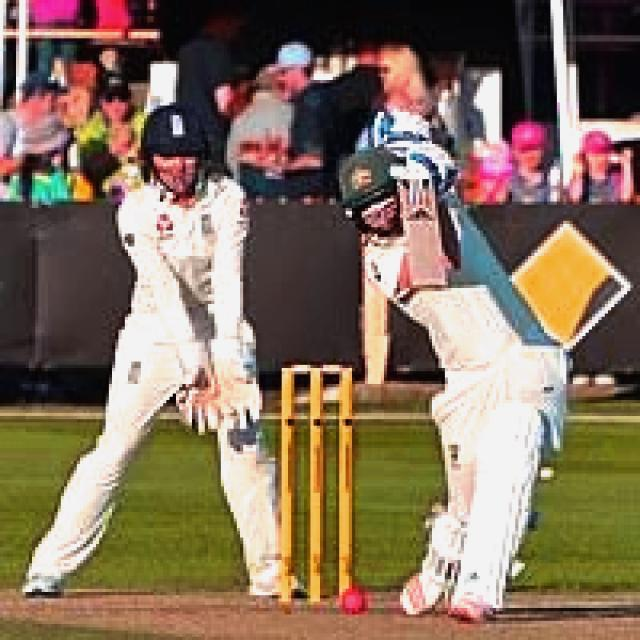bat: (397, 173, 445, 294)
toe: (411, 280, 450, 294)
